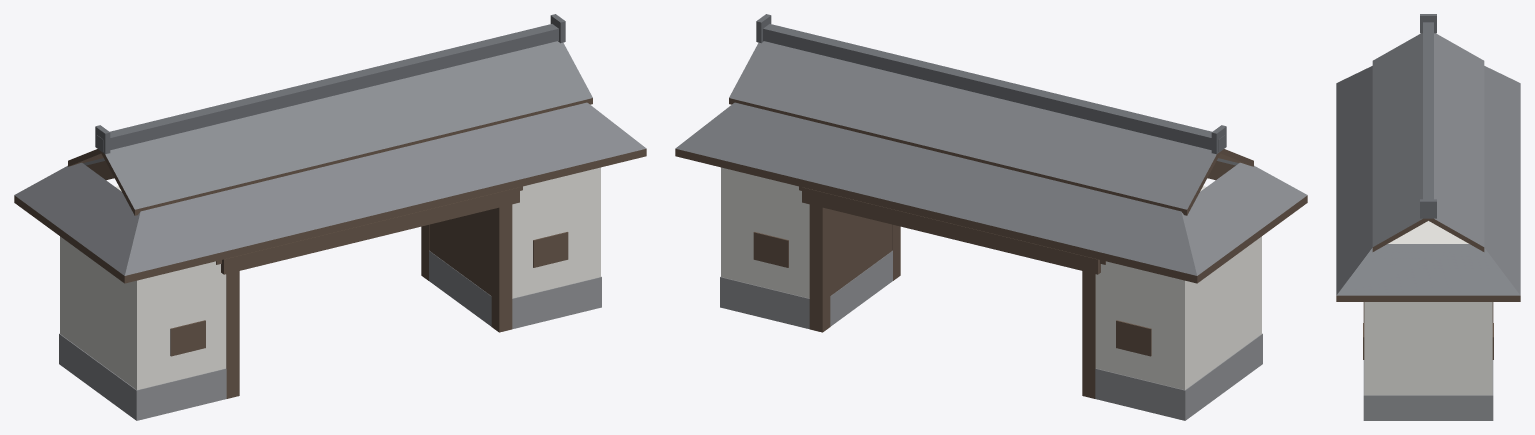
The model's file is HK_GateHouse_Nagaya.glb.
3 renders of one model, left to right at view 1: azimuth 30°, elevation 25°; view 2: azimuth 150°, elevation 25°; view 3: azimuth 270°, elevation 25°, orthographic. The views are drawn at different scales.
Parts seen in each view (by area): view 1: HK_GateHouse_Nagaya; view 2: HK_GateHouse_Nagaya; view 3: HK_GateHouse_Nagaya.
Boxes of the visible parts, left/top/right/bottom form: HK_GateHouse_Nagaya: left=14, top=14, right=646, bottom=420; HK_GateHouse_Nagaya: left=675, top=14, right=1307, bottom=420; HK_GateHouse_Nagaya: left=1336, top=14, right=1520, bottom=420.
Size of the model in its own units: 18 by 8.63 by 6.6.
